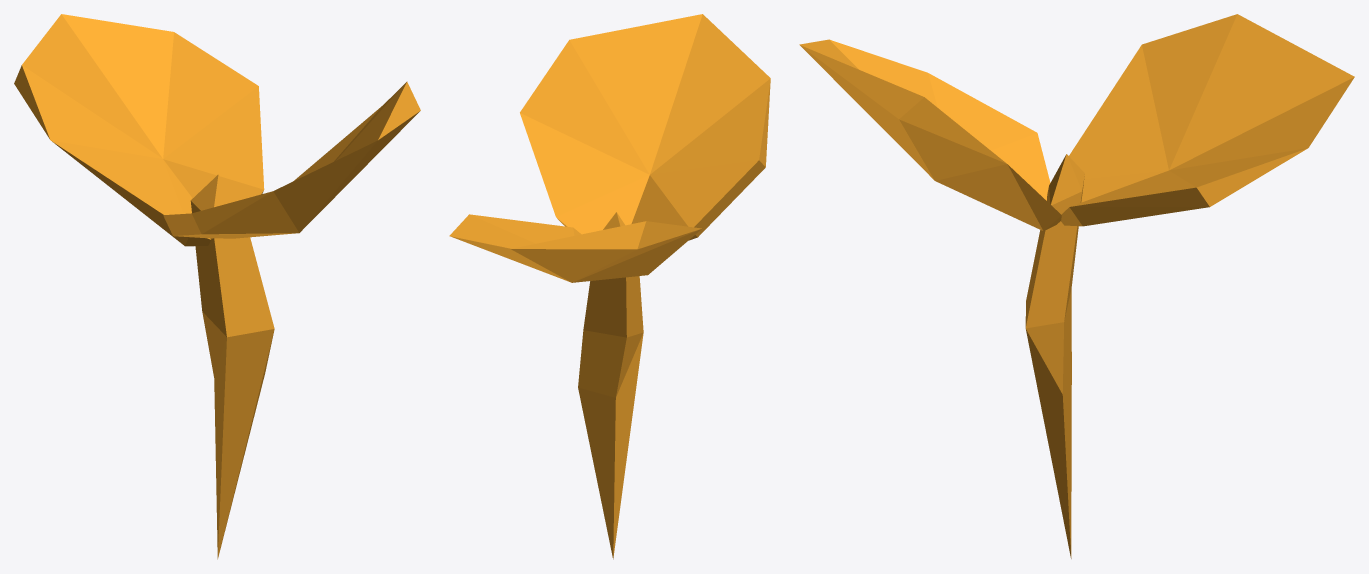
Rendered from SM_Pumpkin_Sprout_A.fbx.
3 views of the same model, side by side, from view 1: azimuth 30°, elevation 25°; view 2: azimuth 150°, elevation 25°; view 3: azimuth 270°, elevation 25° (orthographic). The views are drawn at different scales.
Visible parts, largest first — view 1: pumpkin-sprout-a; view 2: pumpkin-sprout-a; view 3: pumpkin-sprout-a.
Part boxes in pixels (x1,y1,x2,y2): pumpkin-sprout-a: (14, 14, 420, 559); pumpkin-sprout-a: (449, 14, 770, 559); pumpkin-sprout-a: (799, 14, 1354, 558).
Bounding box in the file's own units: 0.1135 × 0.2049 × 0.1945.
